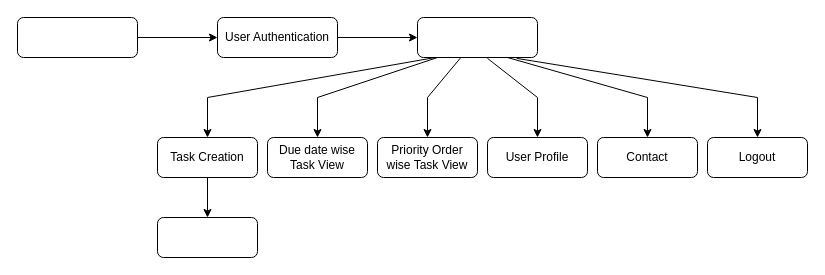
This 825x275 diagram has some shape labels left out. The centre of each missing label's shape, as x and y in pixels:
"Adding Pomodoro Timer" belongs at (207,237).
"HomePage" belongs at (477,37).
"Landing Page" belongs at (77,37).
